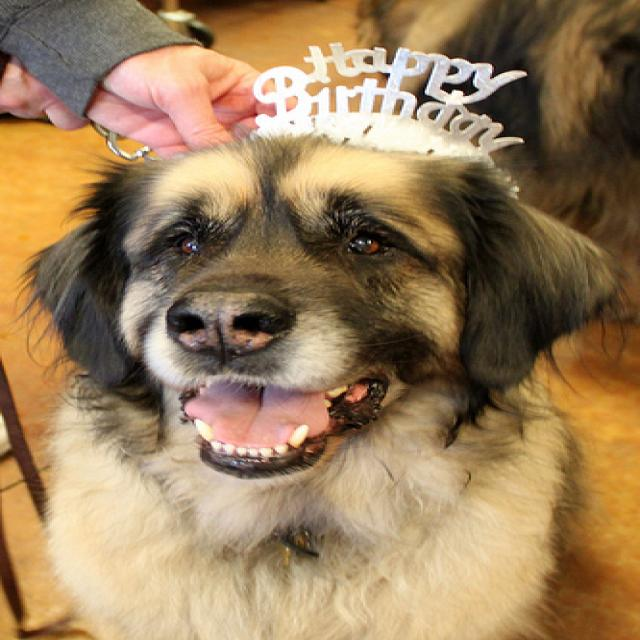dog-leonberger: (2, 127, 628, 637)
